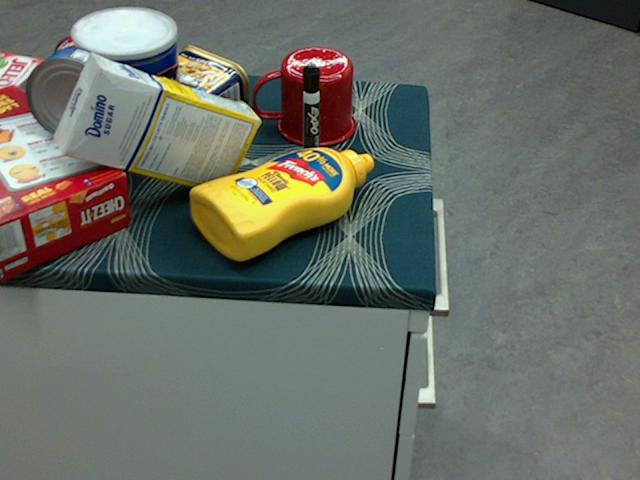cracker_box: (0, 85, 131, 279)
gelatin_box: (0, 52, 49, 114)
large_marker: (300, 63, 321, 169)
master_chef_can: (73, 8, 182, 173)
mug: (251, 47, 354, 147)
mustard_bottle: (189, 146, 374, 260)
potted_meat_can: (136, 45, 249, 134)
sugar_box: (54, 55, 261, 193)
tomato_soup_can: (44, 32, 115, 128)
tuna_fish_can: (25, 47, 122, 141)
